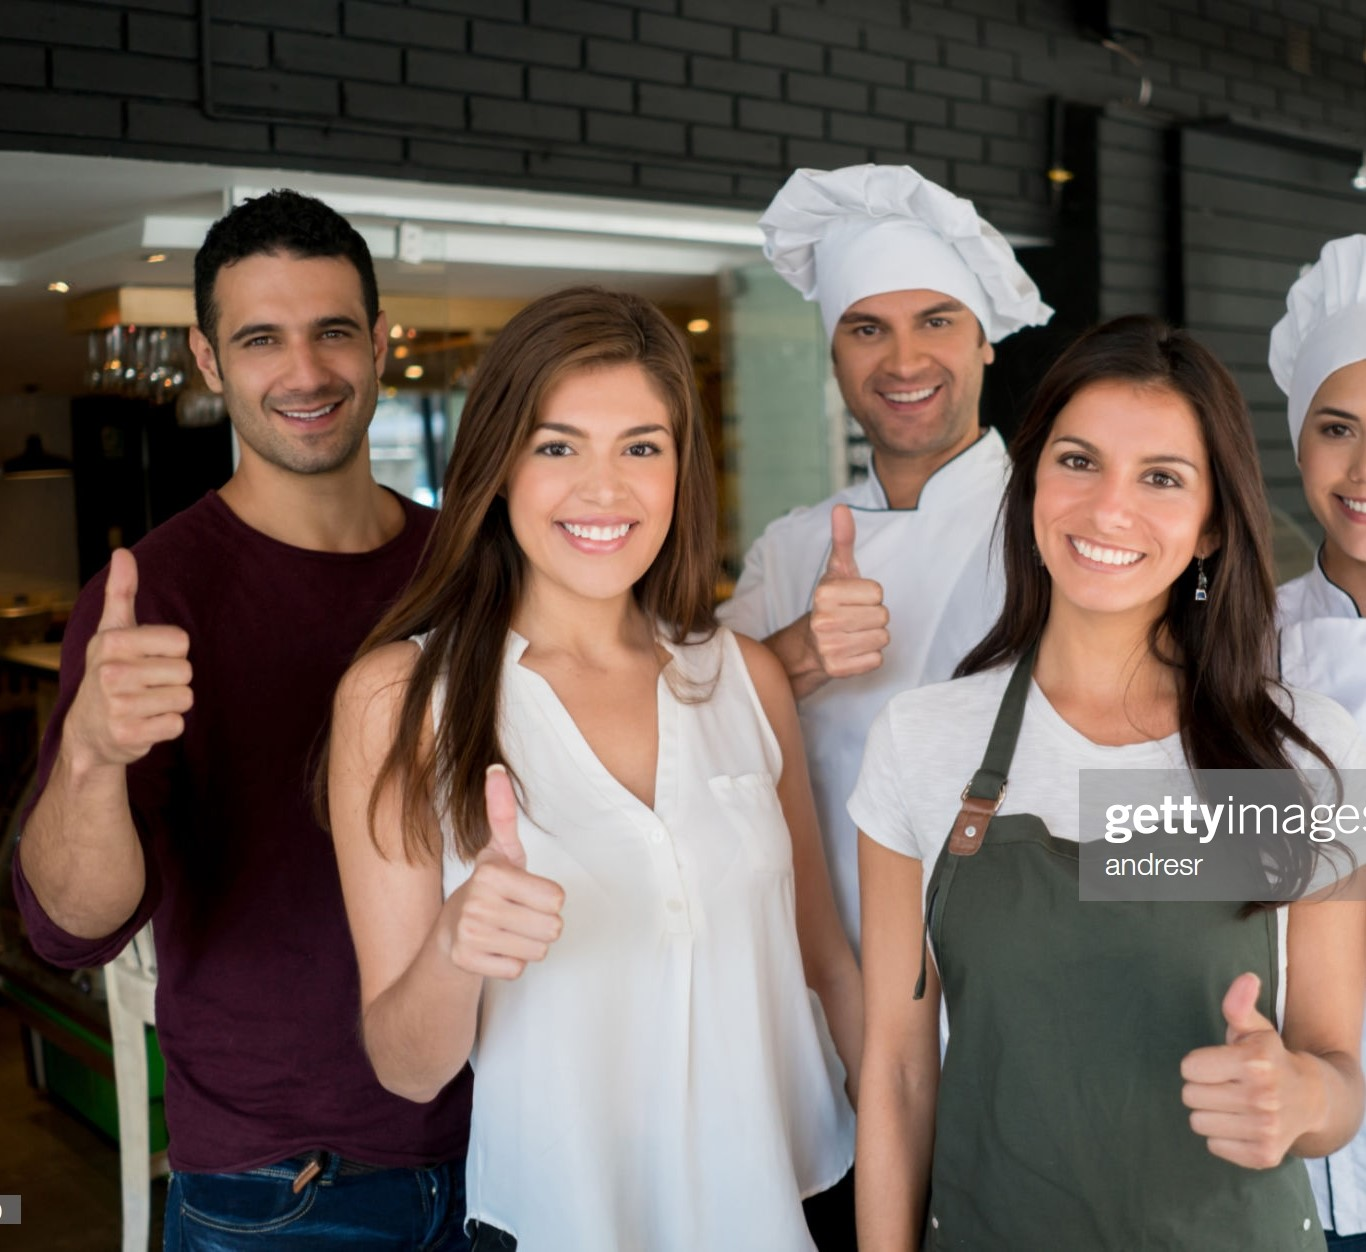thumbsup: (449, 763, 568, 982), (90, 547, 196, 749), (1180, 972, 1285, 1169), (808, 503, 891, 677)
